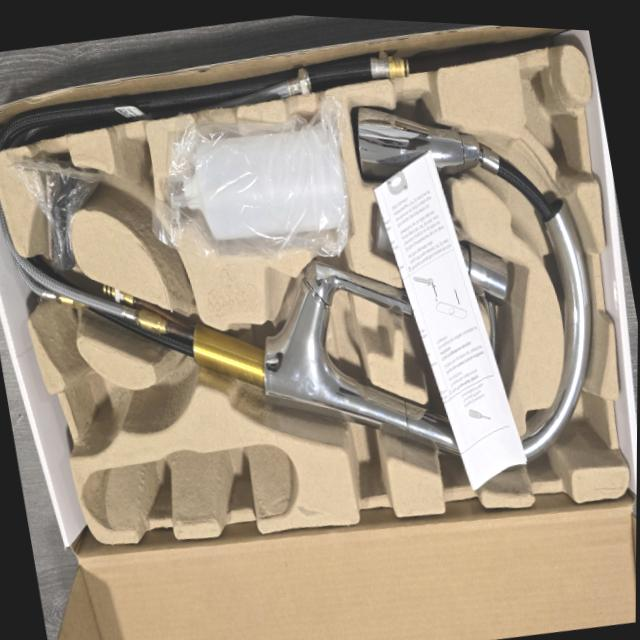1o: (12, 108, 593, 472)
2o: (373, 204, 508, 390)
3: (166, 116, 353, 242)
4m: (81, 447, 297, 531)
5m: (71, 372, 126, 438)
6m: (109, 131, 179, 273)
7: (2, 149, 98, 267)
8: (372, 148, 528, 495)
